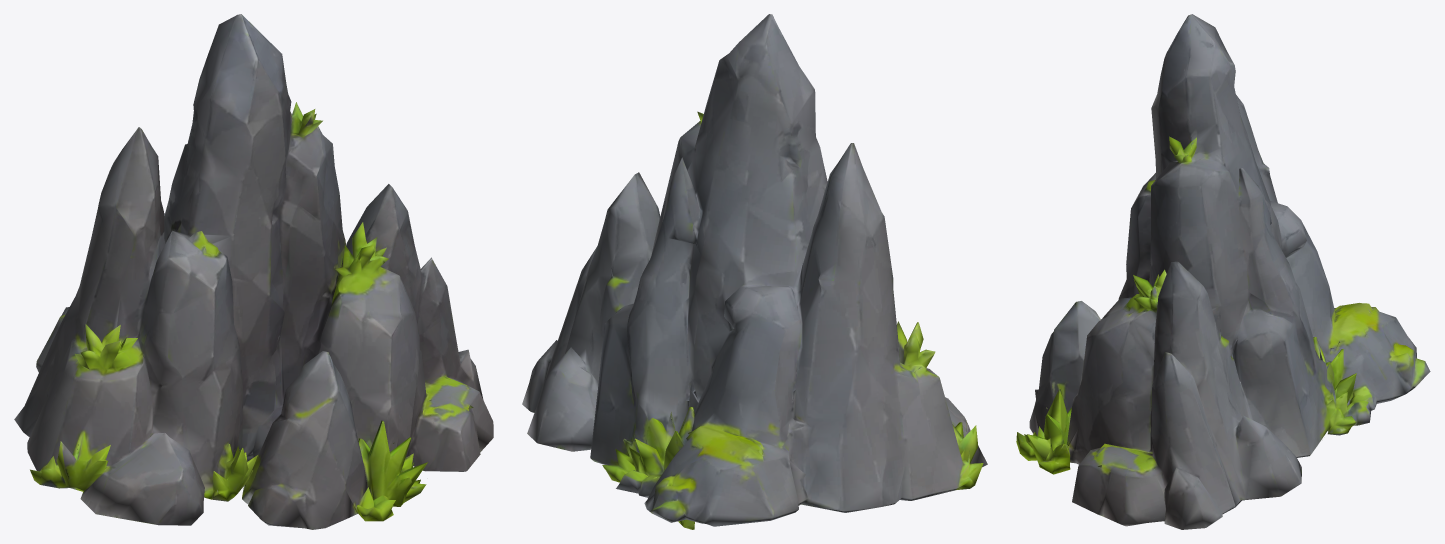
File: cliff_spires_grass.glb
3 renders of one model, left to right at view 1: azimuth 30°, elevation 25°; view 2: azimuth 150°, elevation 25°; view 3: azimuth 270°, elevation 25°, orthographic. The views are drawn at different scales.
Parts seen in each view (by area): view 1: BakeLow; view 2: BakeLow; view 3: BakeLow.
Part boxes in pixels (x1,y1,x2,y2): BakeLow: (14, 14, 493, 529); BakeLow: (522, 14, 987, 529); BakeLow: (1016, 14, 1430, 529).
Size of the model in its own units: 0.8464 by 0.8229 by 0.7406.
Materials: 1 (1 with a texture image).
